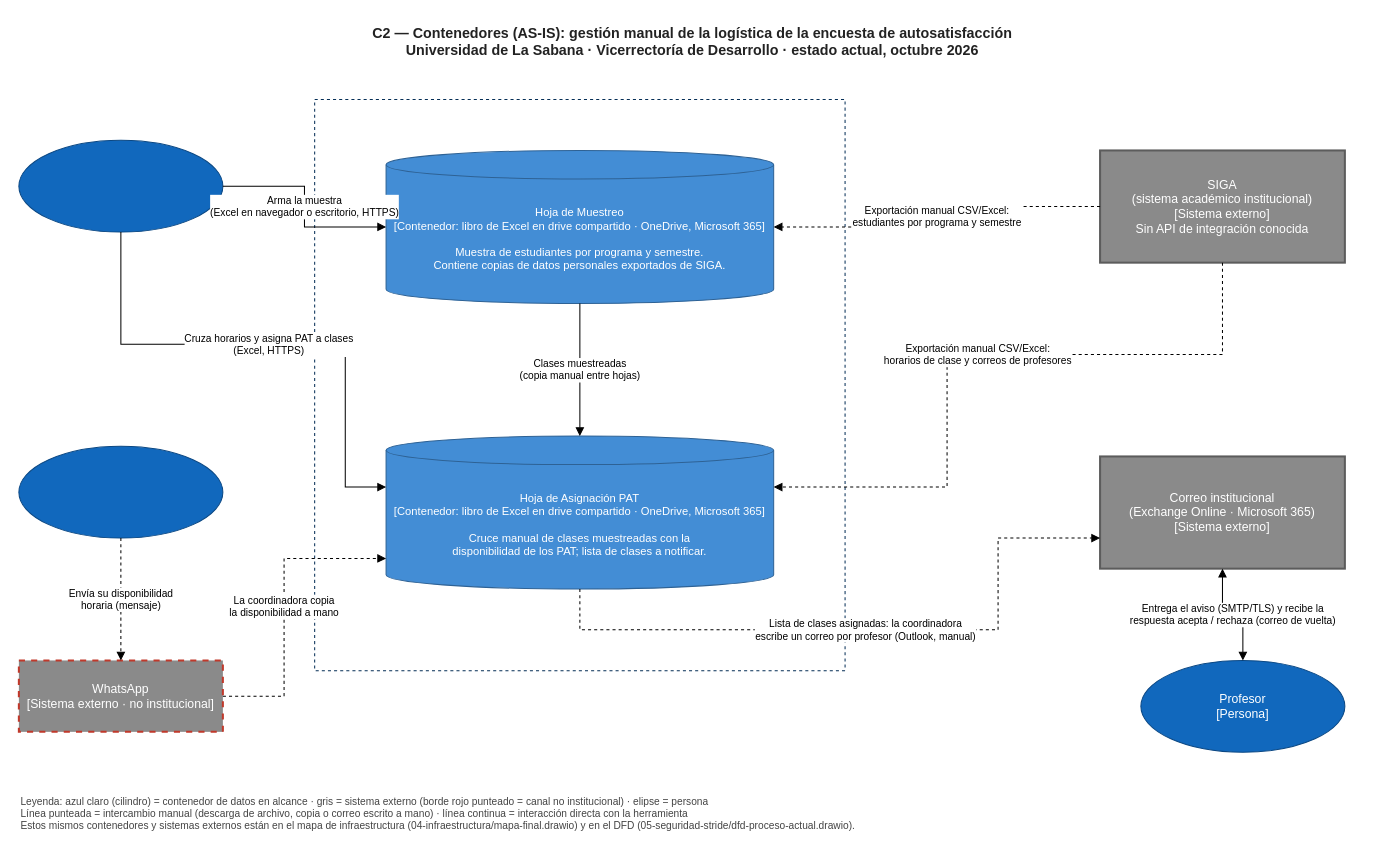
Some shapes in this 1382 by 861 pixel diagram are drawn without their labels. The shapes that lost their labels are listed below. From the top down, each one's box as (x1, y1, x2, y2) in pixels, then its label:
(18, 139, 223, 232): Coordinadora de la encuesta (Vicerrectoría de Desarrollo) [Persona]
(314, 98, 845, 671): Gestión manual de la logística de la encuesta [Sistema en alcance · AS-IS]
(18, 445, 223, 538): Estudiante PAT [Persona] Responde la encuesta y luego la aplica en el salón
